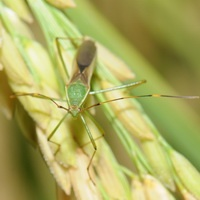insect: (2, 38, 199, 199)
